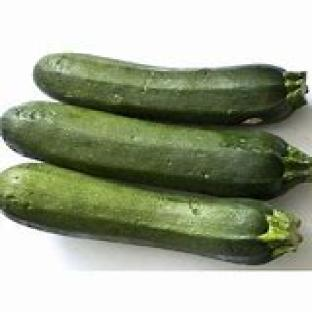Zucchini: (0, 163, 300, 265), (2, 103, 311, 197), (34, 53, 308, 124)
